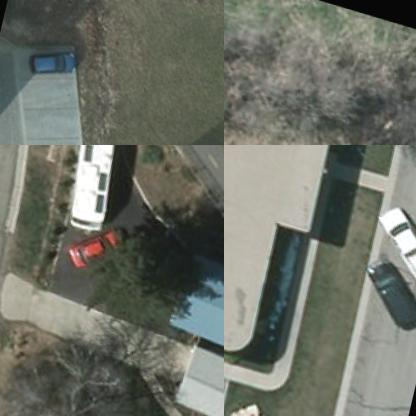camping car: (55, 145, 126, 233)
car: (353, 244, 415, 334), (64, 209, 132, 282), (26, 46, 81, 89)
pickup: (367, 192, 415, 281)
